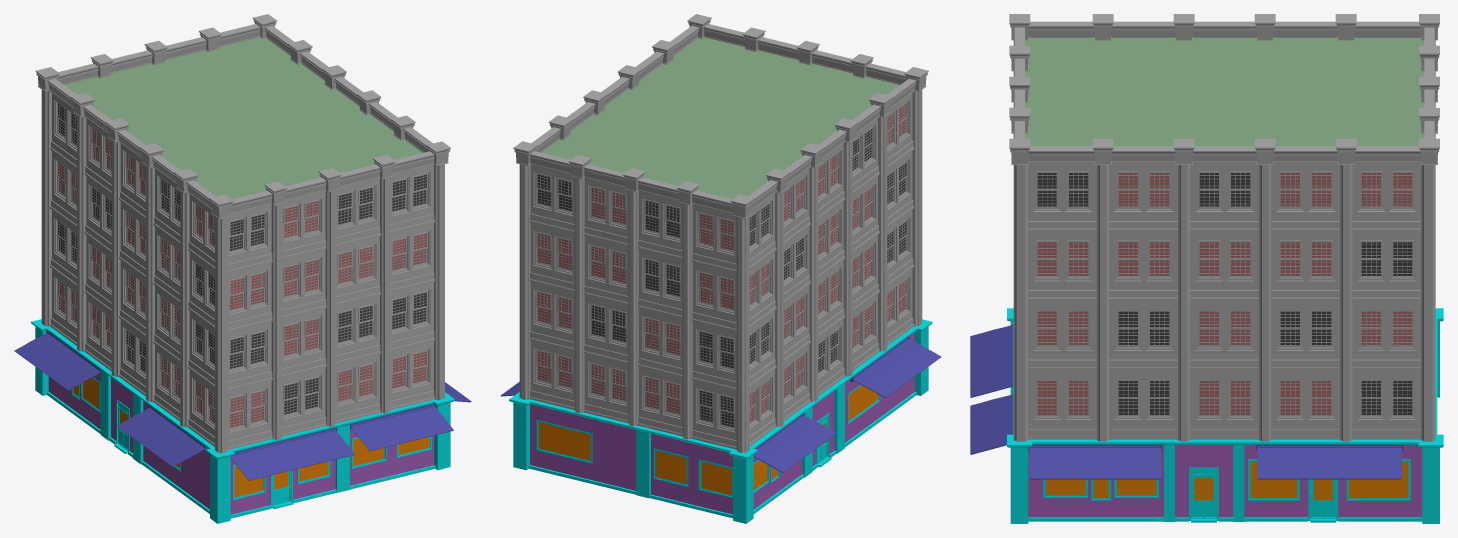
Rendered from SM_Building_01.fbx.
3 renders of one model, left to right at view 1: azimuth 30°, elevation 25°; view 2: azimuth 150°, elevation 25°; view 3: azimuth 270°, elevation 25°, orthographic. The views are drawn at different scales.
Visible parts, largest first — view 1: SM_Building_01; view 2: SM_Building_01; view 3: SM_Building_01.
Part boxes in pixels (box(x1,y1,x2,y2)): SM_Building_01: box(14, 14, 471, 523); SM_Building_01: box(500, 14, 941, 523); SM_Building_01: box(970, 14, 1443, 523).
Size of the model in its own units: 1520 by 1594 by 1818.
